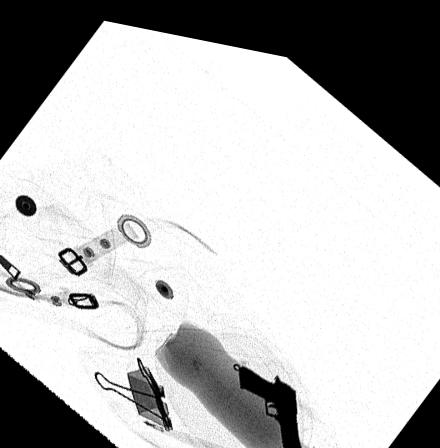Gun: (235, 354, 305, 448)
